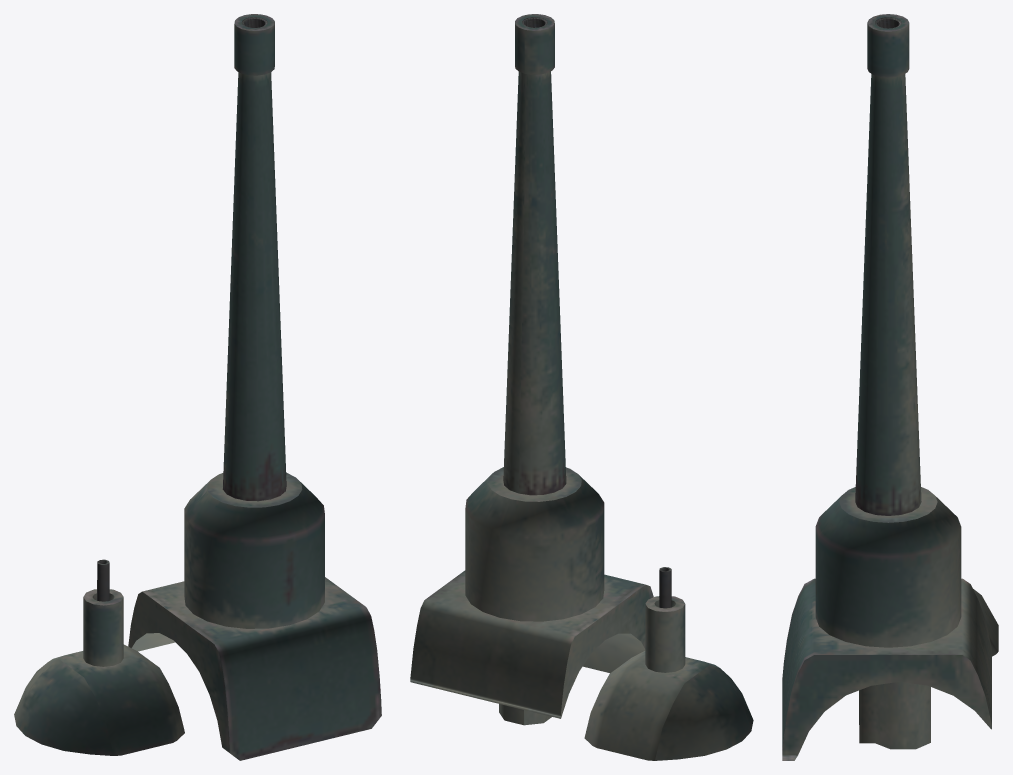
Rendered from Gun_09.glb.
3 renders of one model, left to right at view 1: azimuth 30°, elevation 25°; view 2: azimuth 150°, elevation 25°; view 3: azimuth 270°, elevation 25°, orthographic. The views are drawn at different scales.
Visible parts, largest first — view 1: set_0_group_0; view 2: set_0_group_0; view 3: set_0_group_0.
Boxes of the visible parts, bbox=[...] form: set_0_group_0: bbox=[14, 14, 381, 760]; set_0_group_0: bbox=[410, 14, 753, 760]; set_0_group_0: bbox=[782, 14, 998, 760].
Bounding box in the file's own units: 0.7377 × 1.66 × 0.4546.
1 material, 1 textured.
